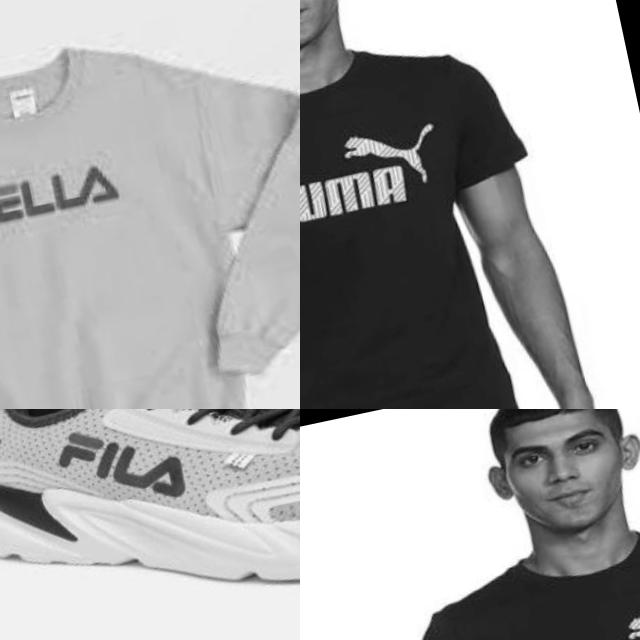FILA_fake: (0, 116, 146, 253)
FILA_original: (36, 409, 198, 534)
PUMA_original: (300, 90, 476, 256), (511, 571, 640, 640)
